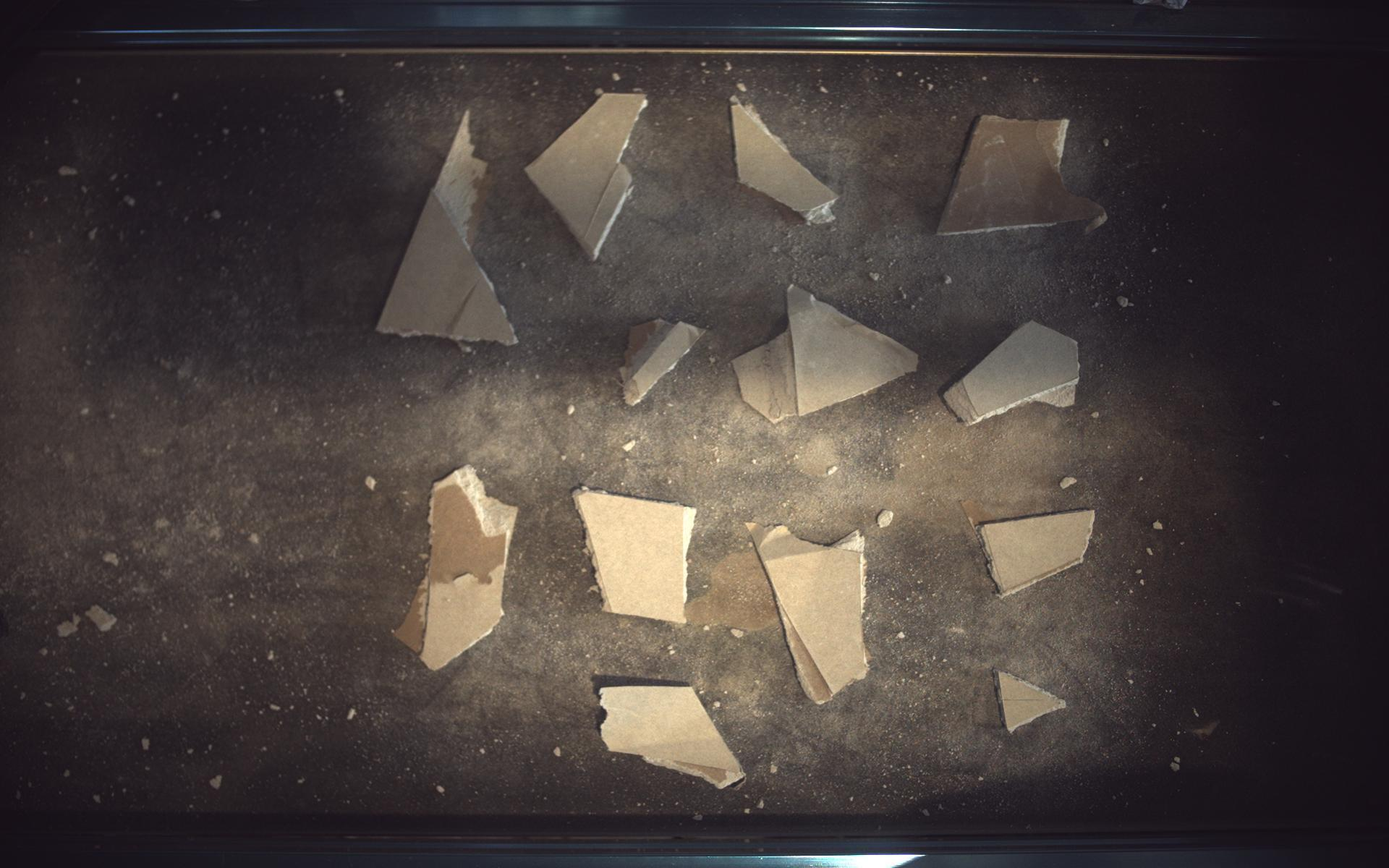gypsum_board: (376, 110, 517, 345), (393, 465, 517, 671), (734, 285, 920, 422), (747, 524, 870, 705), (526, 92, 648, 260), (939, 115, 1109, 234), (573, 488, 697, 624), (600, 686, 746, 790), (946, 321, 1082, 425), (731, 95, 838, 224), (958, 500, 1097, 595), (620, 318, 705, 405), (998, 671, 1069, 734)
